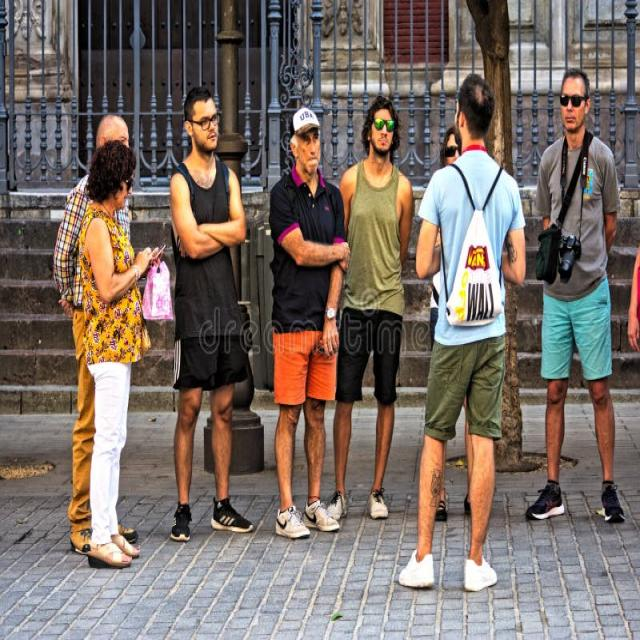human: (431, 140, 470, 516), (85, 140, 136, 204), (361, 94, 401, 160), (279, 114, 322, 174), (190, 94, 228, 150), (554, 77, 591, 132), (96, 114, 130, 148), (440, 125, 461, 167)
loitering: (399, 79, 524, 590), (533, 70, 627, 520), (167, 90, 253, 542), (70, 143, 156, 575), (266, 107, 349, 540), (333, 97, 412, 523), (55, 117, 137, 316), (431, 126, 463, 261)
